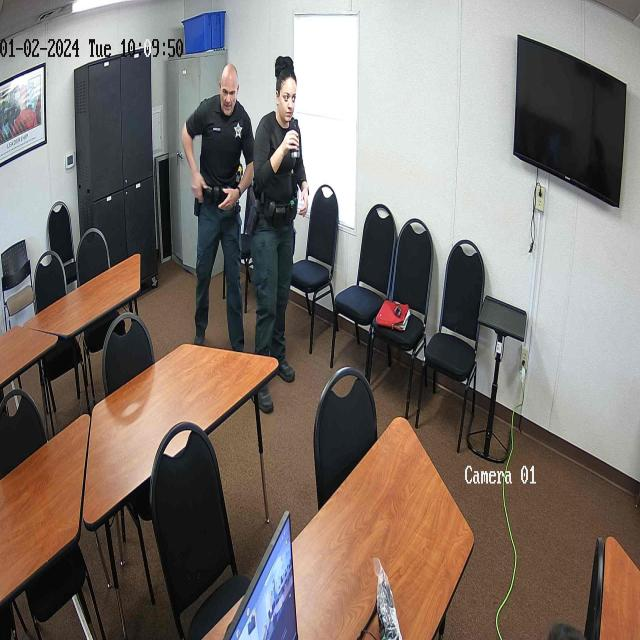weapon: (245, 188, 262, 237), (194, 184, 206, 217)
